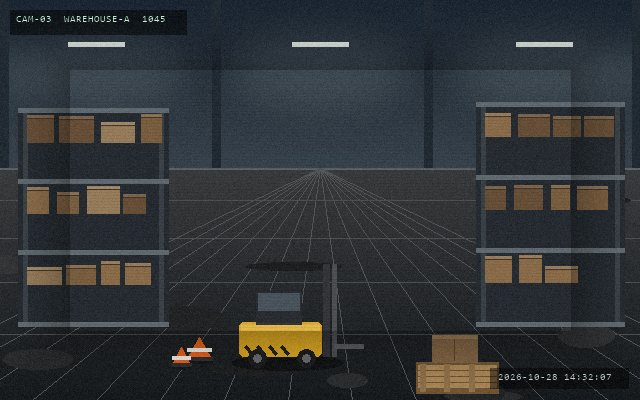cone: (185, 335, 213, 363), (170, 345, 192, 369)
forklift: (235, 262, 365, 370)
pallet: (414, 360, 500, 395)
shelf: (476, 102, 624, 322), (18, 108, 168, 322)
